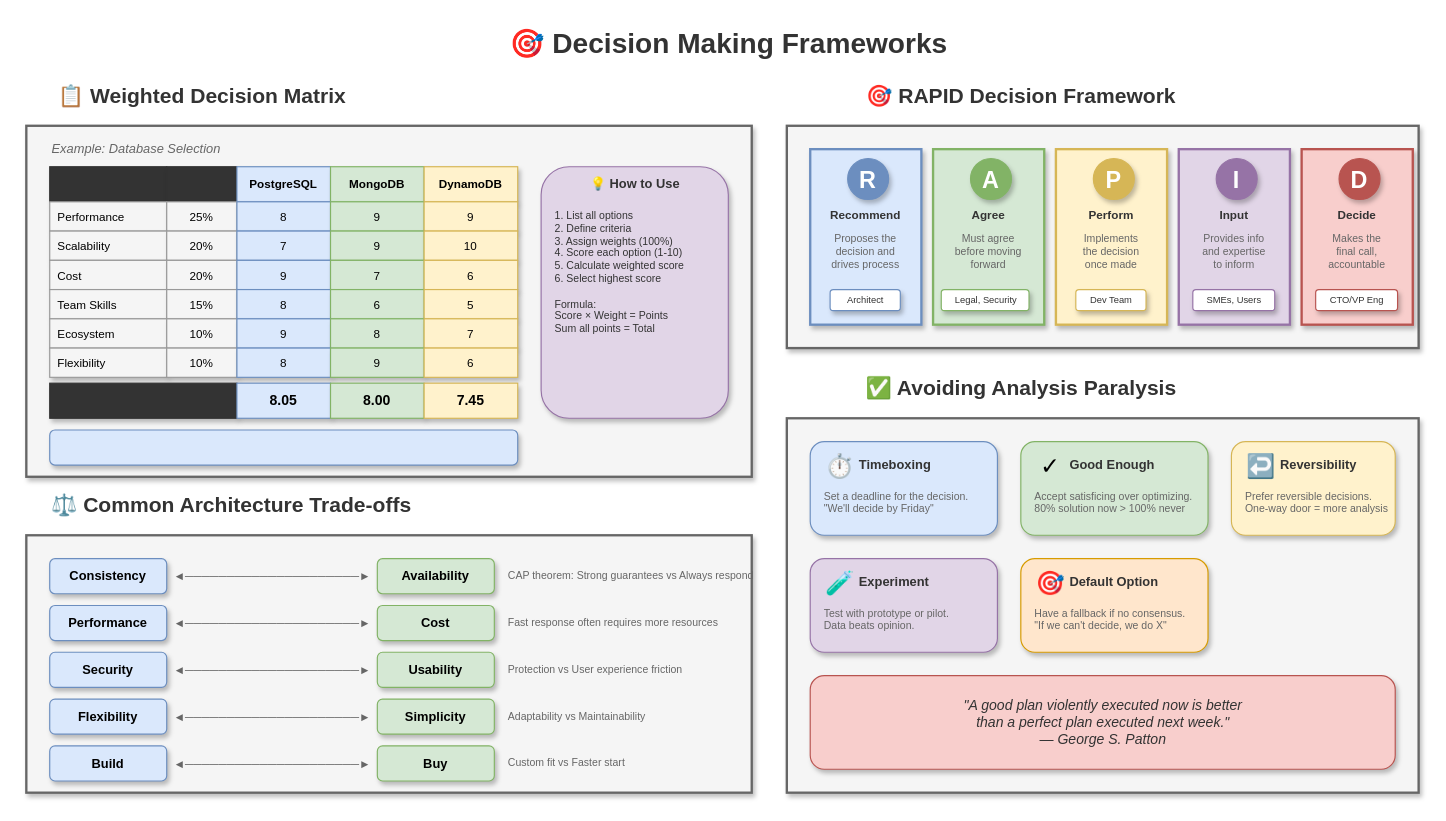
The diagram is 1446 pixels wide and 821 high, and some of its shapes have lost their labels. The centre of each missing label's shape, as x and y in pixels:
"Criteria" goes at (109,185).
"Weight" goes at (202,185).
"Weighted Score" goes at (144,401).
"🏆 Winner: PostgreSQL (8.05)" goes at (284,448).
